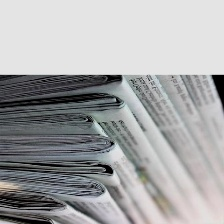news_paper: (0, 75, 224, 224)
